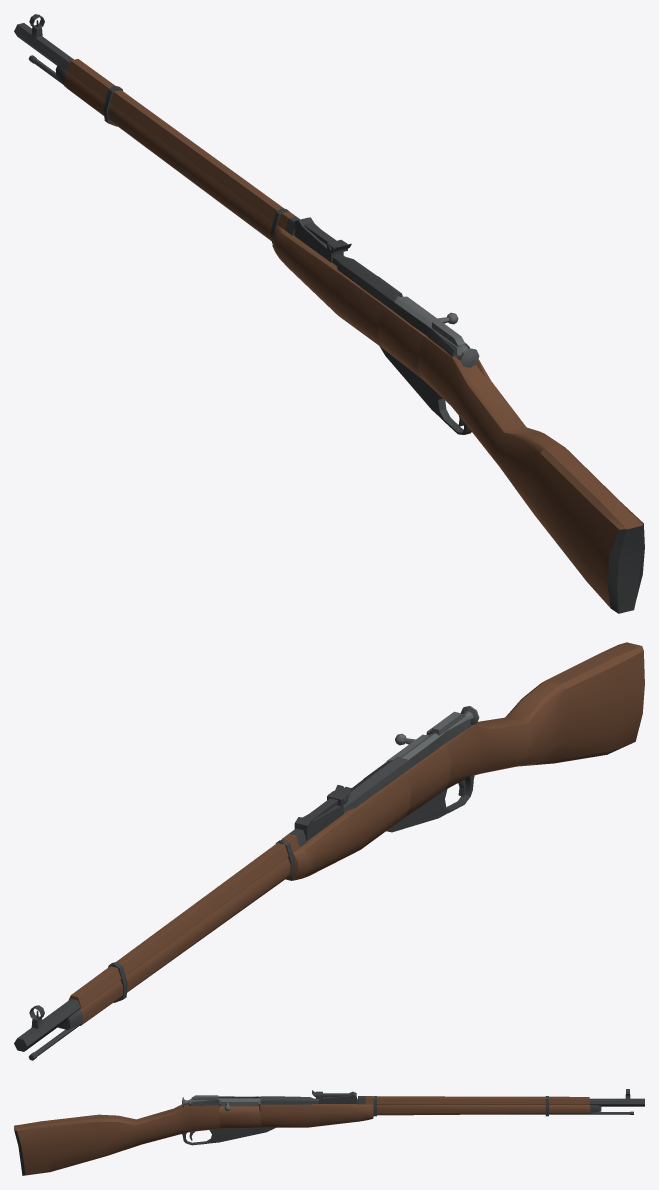
The model's file is sniper_s90.glb.
3 views of the same model, one above another, from view 1: azimuth 30°, elevation 25°; view 2: azimuth 150°, elevation 25°; view 3: azimuth 270°, elevation 25° (orthographic). The views are drawn at different scales.
Parts seen in each view (by area): view 1: Cube; view 2: Cube; view 3: Cube.
Boxes of the visible parts, left/top/right/bottom form: Cube: left=14, top=14, right=644, bottom=613; Cube: left=14, top=642, right=644, bottom=1060; Cube: left=14, top=1089, right=644, bottom=1175.
Bounding box in the file's own units: 0.0458 × 0.1485 × 1.
